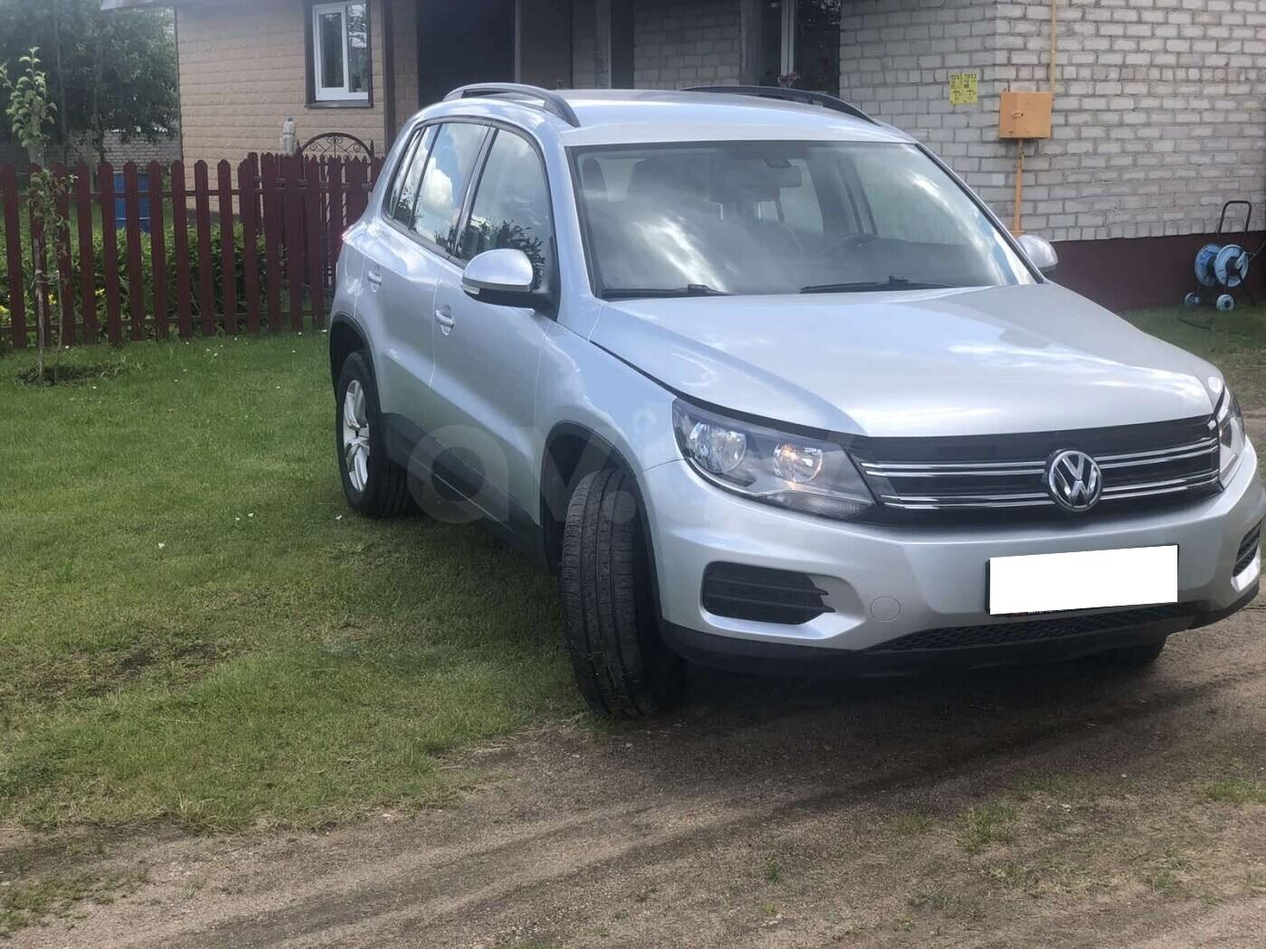Tiguan_2011-2018: (327, 79, 1266, 711)
